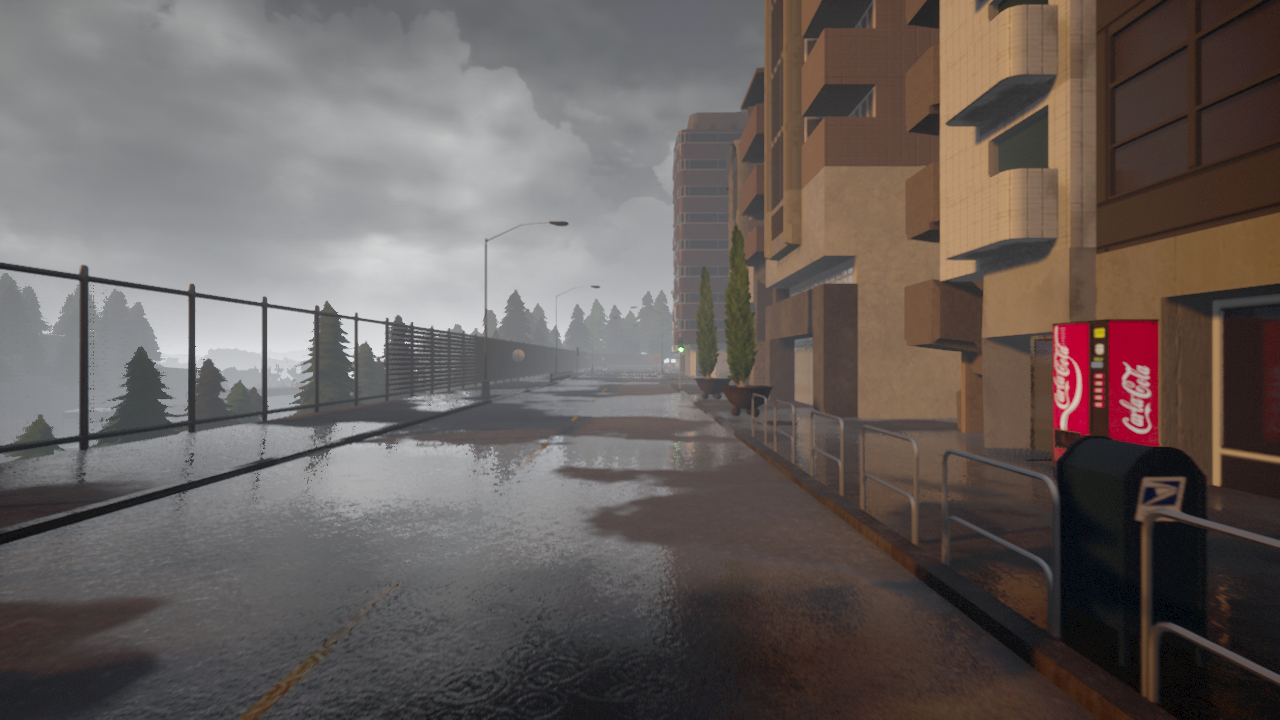green: (677, 336, 685, 353)
